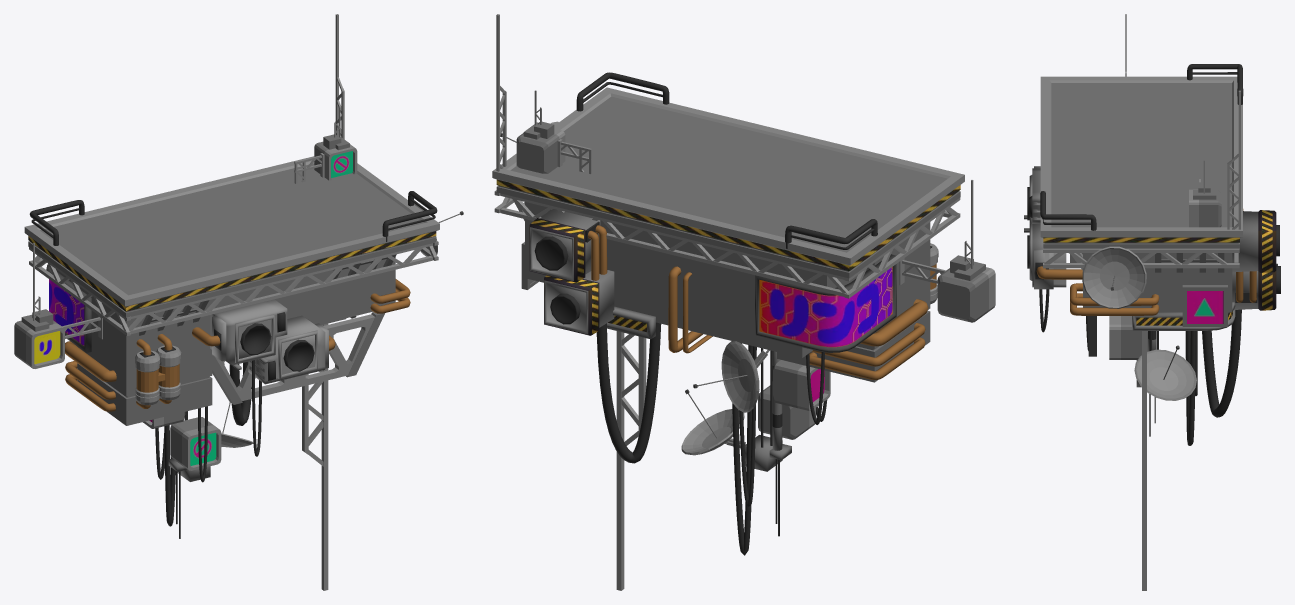
The model's file is cyberpunk-platform-1.glb.
3 views of the same model, side by side, from view 1: azimuth 30°, elevation 25°; view 2: azimuth 150°, elevation 25°; view 3: azimuth 270°, elevation 25° (orthographic). The views are drawn at different scales.
Parts seen in each view (by area): view 1: Platform_4x2; view 2: Platform_4x2; view 3: Platform_4x2.
Part boxes in pixels (box(x1,y1,x2,y2)): Platform_4x2: box(14, 14, 463, 590); Platform_4x2: box(492, 14, 995, 590); Platform_4x2: box(1024, 14, 1280, 590).
Bounding box in the file's own units: 5.32 × 6.16 × 2.71.
Materials: 6 (1 with a texture image).
